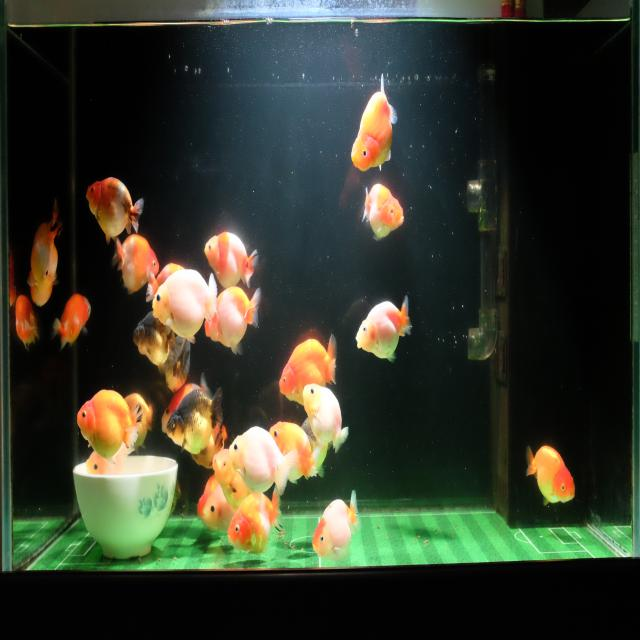Tilapia: (227, 424, 297, 502), (151, 265, 217, 347), (75, 385, 142, 465), (277, 330, 340, 412), (349, 72, 398, 175), (165, 385, 227, 460), (26, 197, 67, 308), (204, 283, 264, 357), (226, 482, 284, 558), (354, 292, 414, 365), (85, 175, 144, 247), (301, 379, 350, 458), (310, 488, 362, 562), (523, 441, 577, 510), (204, 228, 260, 291), (269, 419, 319, 485), (110, 233, 159, 298), (52, 289, 94, 357), (212, 444, 253, 511), (362, 182, 404, 244), (131, 309, 174, 369), (201, 484, 237, 536), (124, 388, 156, 446), (83, 444, 128, 483), (13, 292, 41, 354), (194, 473, 218, 523)
